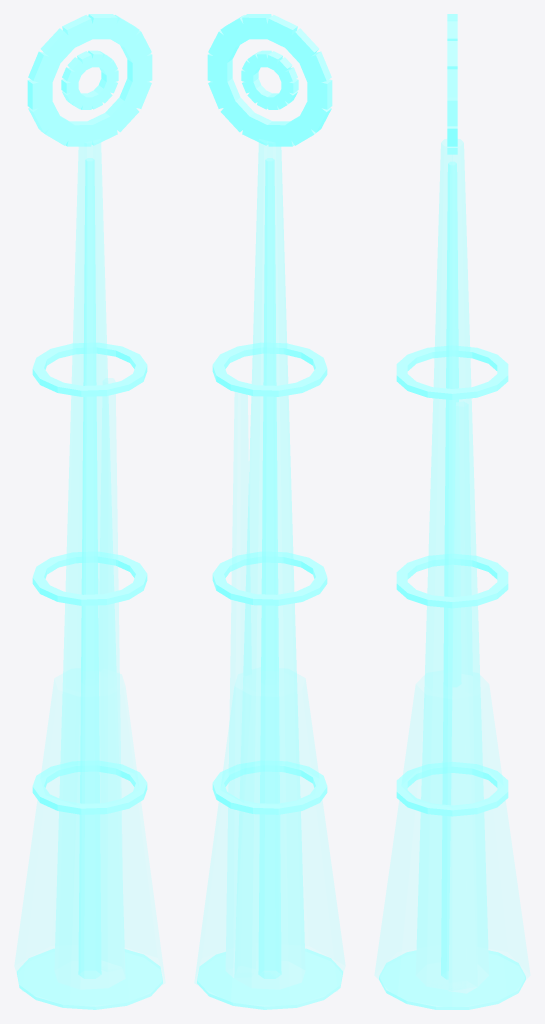
The model's file is fx_drop_set.glb.
The picture shows the model from 3 angles, left to right: view 1: azimuth 30°, elevation 25°; view 2: azimuth 150°, elevation 25°; view 3: azimuth 270°, elevation 25°; orthographic projection.
Visible parts, largest first — view 1: fx_drop_set; view 2: fx_drop_set; view 3: fx_drop_set.
Part boxes in pixels (<box>): fx_drop_set: <box>14,14,165,1009</box>; fx_drop_set: <box>194,14,345,1009</box>; fx_drop_set: <box>375,14,529,1009</box>.
Size of the model in its own units: 0.68 by 4.61 by 0.68.
